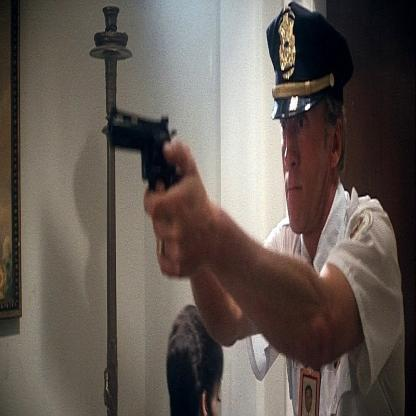gun: (106, 68, 176, 204)
